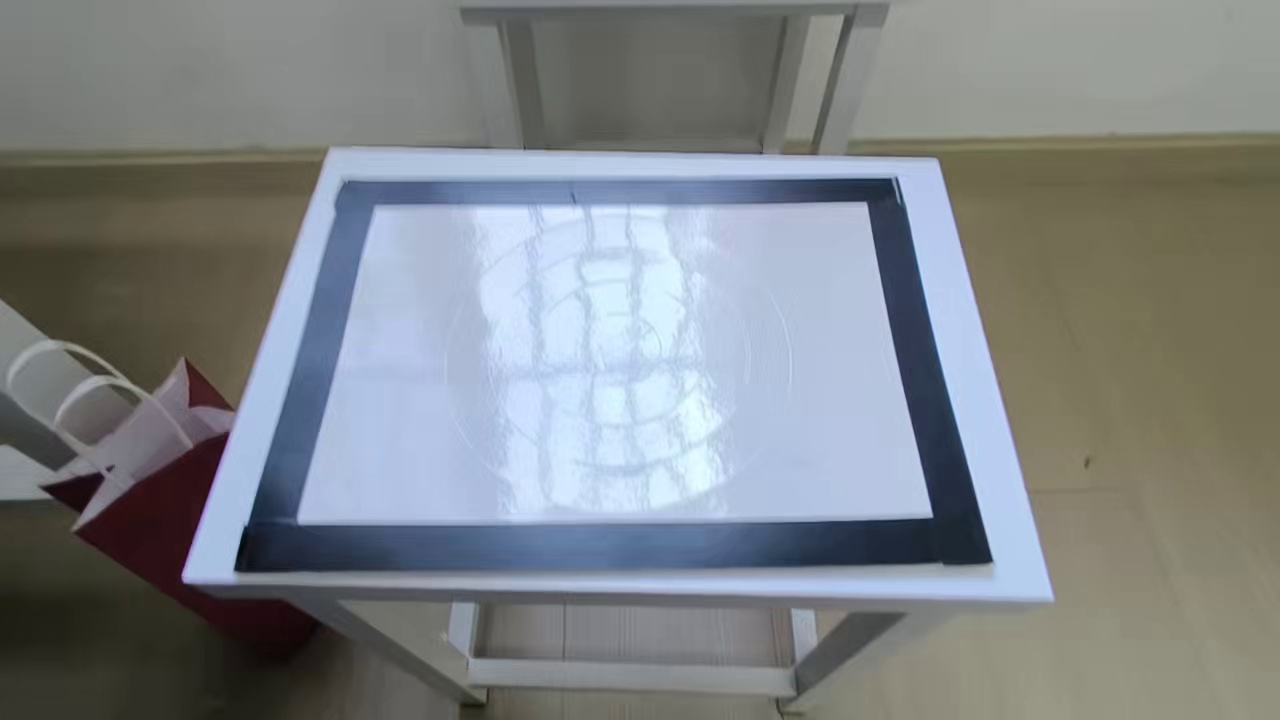board: (235, 177, 989, 564)
